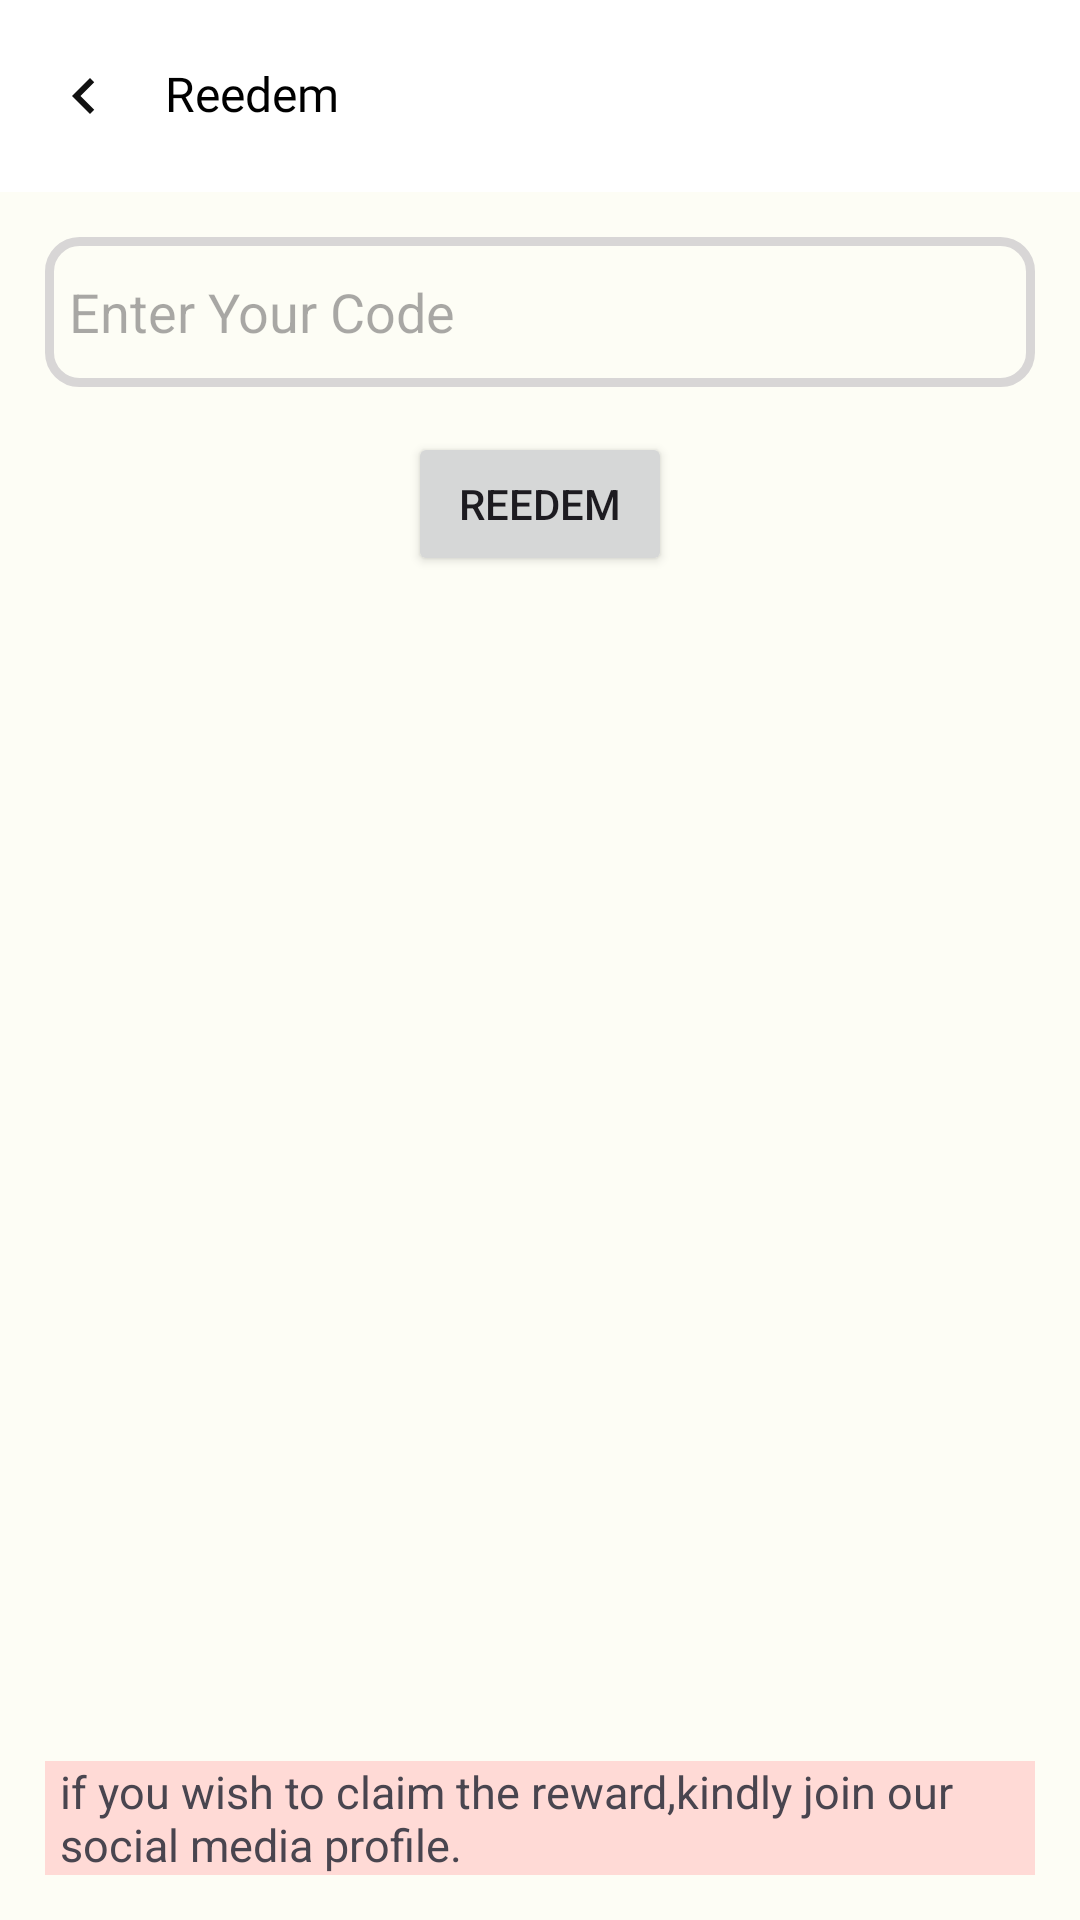

Icons on this 1080x1920 Android screen, each with its box as (x1, y1, x2, y2):
chevron left: (72, 78, 94, 114)
